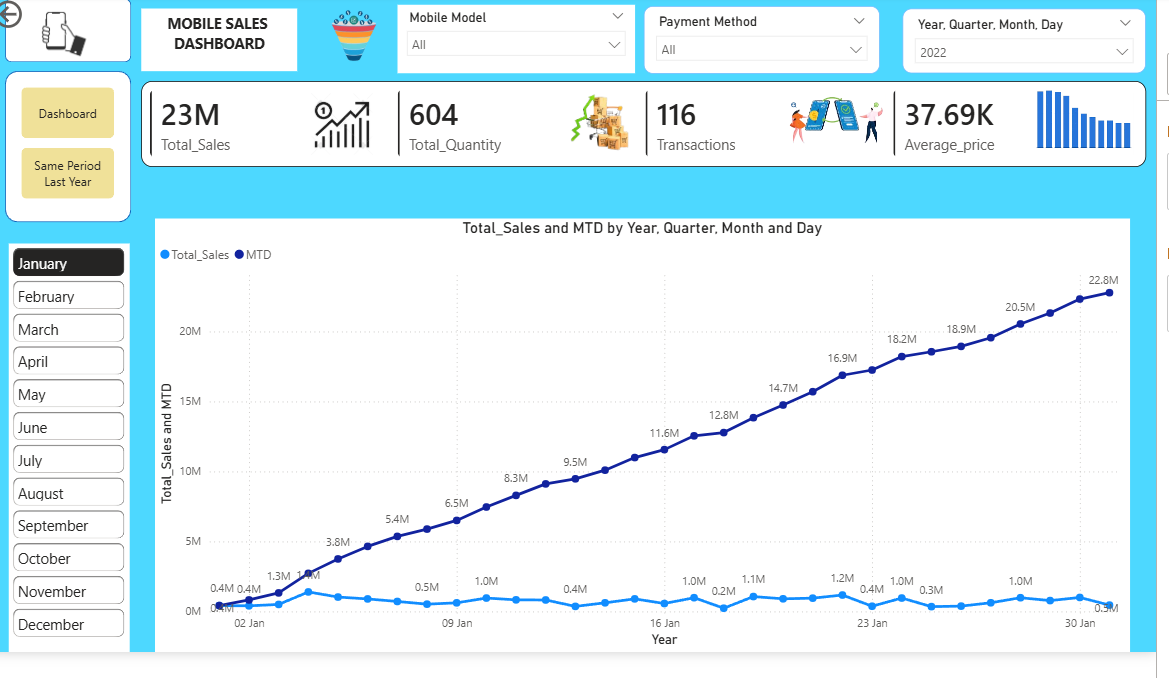

What the dashboard file says about the page in this screenshot:
{"tool":"powerbi","page":{"name":"MTD Report","canvas":[1280,720],"ordinal":1},"visuals":[{"type":"shape","box":[16.5,2.7,138.6,70],"z":0},{"type":"image","box":[41.2,11,81,61.7],"z":1000},{"type":"shape","box":[16.5,82.3,138.6,166],"z":2000},{"type":"cardVisual","fields":{"Data":["Mobile_sales_data.Total_Sales","Mobile_sales_data.Total_Quantity","Mobile_sales_data.Transactions","Mobile_sales_data.Average_price"]},"box":[166,93.3,1103.3,94.7],"z":3000},{"type":"slicer","fields":{"Values":["Mobile_sales_data.Mobile Model"]},"box":[447.3,9.6,260.7,75.5],"z":4000},{"type":"slicer","fields":{"Values":["Mobile_sales_data.Payment Method"]},"box":[717.7,11,259.3,74.1],"z":5000},{"type":"slicer","fields":{"Values":["Custom_Calender.Date.Variation.Date Hierarchy.Year","Custom_Calender.Date.Variation.Date Hierarchy.Quarter","Custom_Calender.Date.Variation.Date Hierarchy.Month","Custom_Calender.Date.Variation.Date Hierarchy.Day"]},"box":[1001.7,13.7,267.6,71.4],"z":6000},{"type":"textbox","box":[166,13.7,171.5,68.6],"z":7000},{"type":"image","box":[337.6,107,97.4,67.2],"z":8000},{"type":"image","box":[577.7,93.3,140,81],"z":9000},{"type":"image","box":[852.1,85.1,149.6,81],"z":10000},{"type":"image","box":[1134.8,100.2,123.5,67.2],"z":11000},{"type":"image","box":[328,13.7,142.7,59],"z":12000},{"type":"actionButton","box":[0,0,100,40],"z":13000},{"type":"lineChart","fields":{"Y":["Mobile_sales_data.Total_Sales","Mobile_sales_data.MTD"],"Category":["Custom_Calender.Date.Variation.Date Hierarchy.Year","Custom_Calender.Date.Variation.Date Hierarchy.Quarter","Custom_Calender.Date.Variation.Date Hierarchy.Month","Custom_Calender.Date.Variation.Date Hierarchy.Day"]},"box":[181.4,244.3,1070,475.7],"z":14000},{"type":"advancedSlicerVisual","fields":{"Values":["Custom_Calender.Date.Variation.Date Hierarchy.Month"]},"box":[20,271.4,132.9,448.6],"z":15000},{"type":"pageNavigator","box":[34.3,100,102.9,122.9],"z":16000}]}

Visuals, with their boxes on the page's 1280x720 design canvas (x1, y1, x2, y2). These are canvas units, not pixel positions in the 1169x678 screenshot, which may show the page scaled, cropped or inside an application window:
shape: <region>16, 3, 155, 73</region>
image: <region>41, 11, 122, 73</region>
shape: <region>16, 82, 155, 248</region>
cardVisual - Mobile_sales_data.Total_Sales x Mobile_sales_data.Total_Quantity: <region>166, 93, 1269, 188</region>
slicer - Mobile_sales_data.Mobile Model: <region>447, 10, 708, 85</region>
slicer - Mobile_sales_data.Payment Method: <region>718, 11, 977, 85</region>
slicer - Custom_Calender.Date.Variation.Date Hierarchy.Year x Custom_Calender.Date.Variation.Date Hierarchy.Quarter: <region>1002, 14, 1269, 85</region>
textbox: <region>166, 14, 338, 82</region>
image: <region>338, 107, 435, 174</region>
image: <region>578, 93, 718, 174</region>
image: <region>852, 85, 1002, 166</region>
image: <region>1135, 100, 1258, 167</region>
image: <region>328, 14, 471, 73</region>
actionButton: <region>0, 0, 100, 40</region>
lineChart - Mobile_sales_data.Total_Sales x Mobile_sales_data.MTD: <region>181, 244, 1251, 720</region>
advancedSlicerVisual - Custom_Calender.Date.Variation.Date Hierarchy.Month: <region>20, 271, 153, 720</region>
pageNavigator: <region>34, 100, 137, 223</region>
